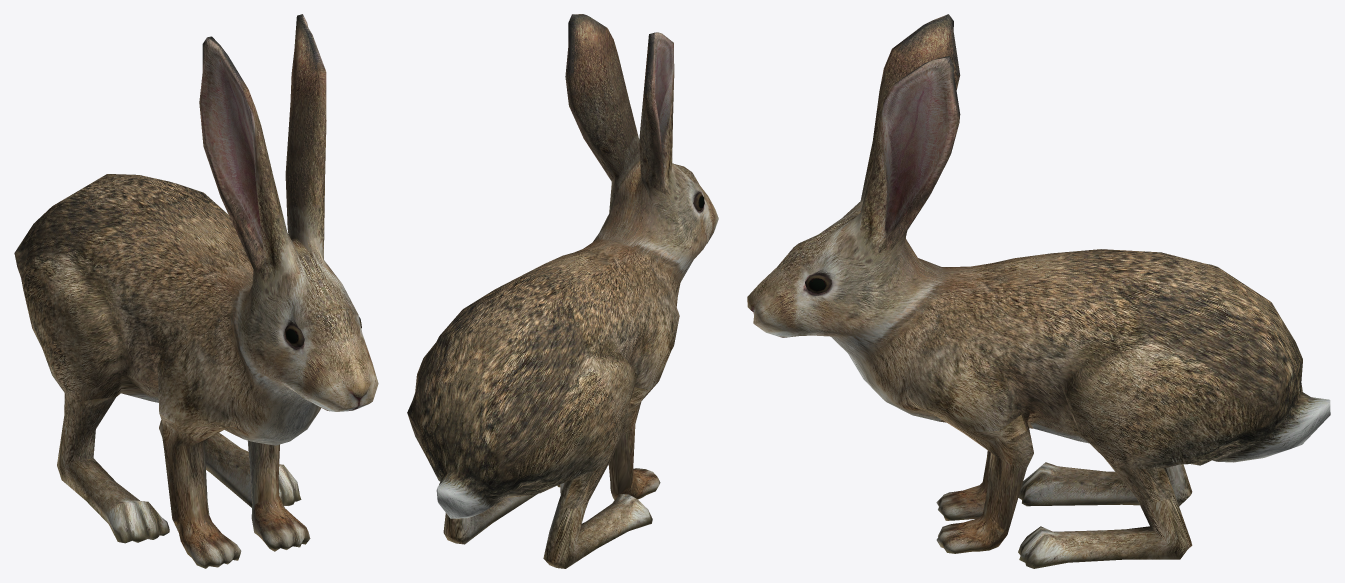
File: Rabbit.obj
3 views of the same model, side by side, from view 1: azimuth 30°, elevation 25°; view 2: azimuth 150°, elevation 25°; view 3: azimuth 270°, elevation 25° (orthographic). The views are drawn at different scales.
Bounding box in the file's own units: 0.464 × 1.17 × 1.25.
